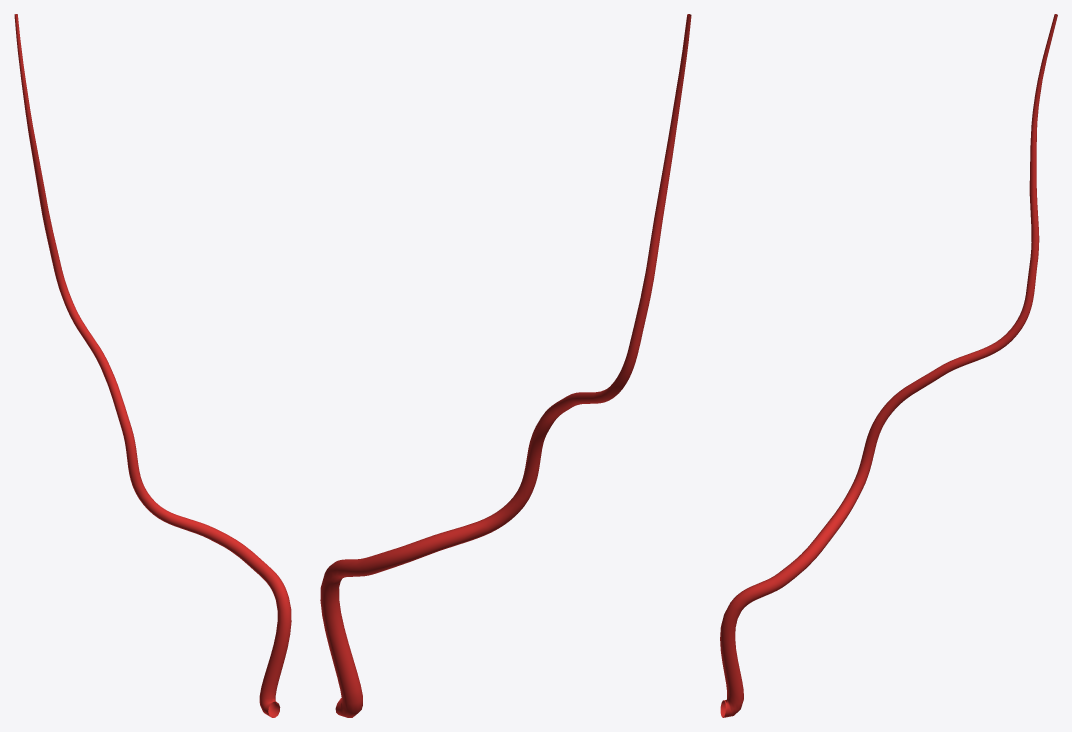
File: circulatorio-deep-cervical-artery-l.glb
The picture shows the model from 3 angles, left to right: view 1: azimuth 30°, elevation 25°; view 2: azimuth 210°, elevation 25°; view 3: azimuth 270°, elevation 25°; orthographic projection. The views are drawn at different scales.
Visible parts, largest first — view 1: Deep cervical artery.l; view 2: Deep cervical artery.l; view 3: Deep cervical artery.l.
Boxes of the visible parts, <box> form: Deep cervical artery.l: <box>14,14,291,717</box>; Deep cervical artery.l: <box>320,14,691,717</box>; Deep cervical artery.l: <box>720,14,1057,717</box>.
Bounding box in the file's own units: 0.0169 × 0.0802 × 0.0378.
